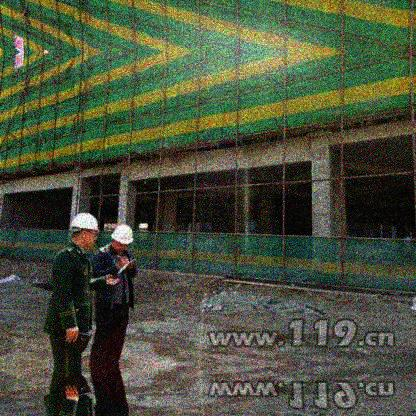helmet: (69, 212, 101, 249), (110, 223, 134, 254)
